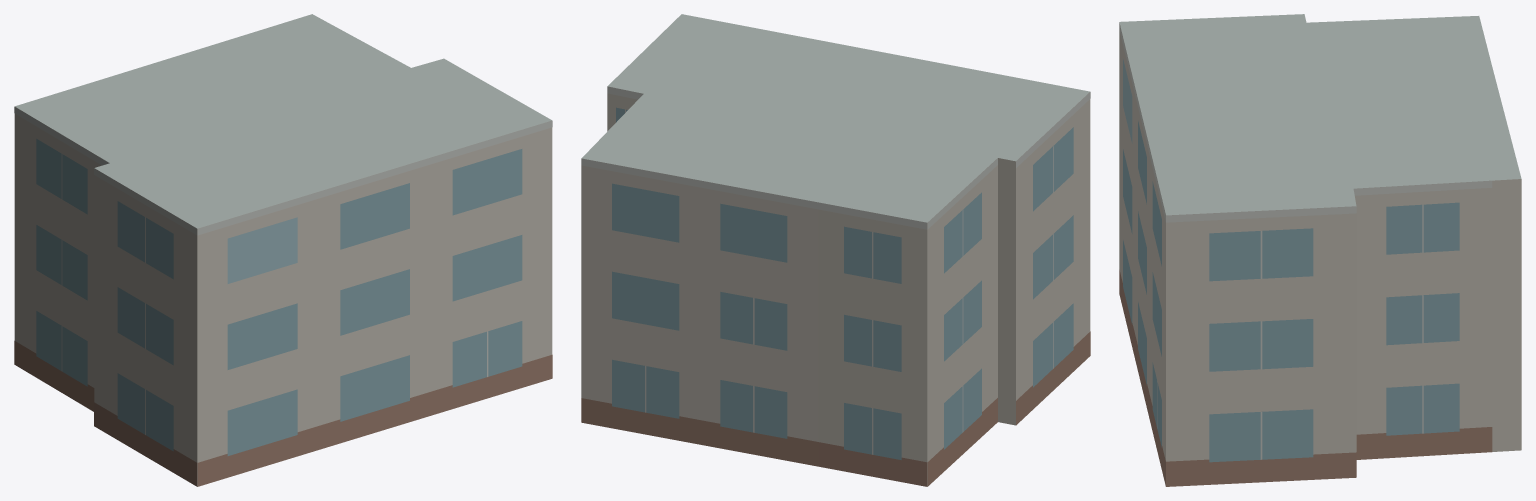
File: survey-upis-33022529.glb
3 renders of one model, left to right at view 1: azimuth 30°, elevation 25°; view 2: azimuth 150°, elevation 25°; view 3: azimuth 270°, elevation 25°, orthographic. The views are drawn at different scales.
Visible parts, largest first — view 1: survey-upis-33022529.tmp; view 2: survey-upis-33022529.tmp; view 3: survey-upis-33022529.tmp.
Boxes of the visible parts, box(x1,y1,x2,y2) form: survey-upis-33022529.tmp: box(14, 14, 552, 486); survey-upis-33022529.tmp: box(581, 14, 1090, 486); survey-upis-33022529.tmp: box(1119, 14, 1521, 486).
Bounding box in the file's own units: 14.57 × 9.15 × 12.3.
